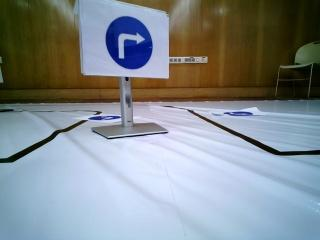right: (83, 1, 168, 78)
